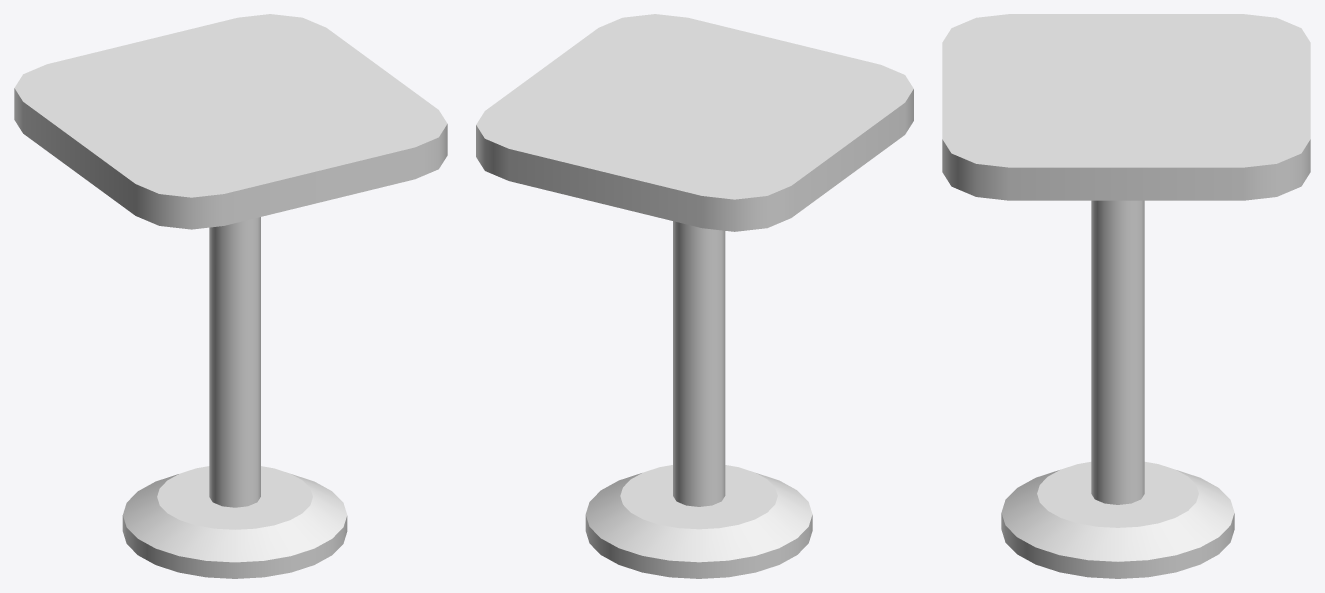
File: Furn_Stool.fbx
3 renders of one model, left to right at view 1: azimuth 30°, elevation 25°; view 2: azimuth 150°, elevation 25°; view 3: azimuth 270°, elevation 25°, orthographic. The views are drawn at different scales.
Parts seen in each view (by area): view 1: Furn_Stool; view 2: Furn_Stool; view 3: Furn_Stool.
Part boxes in pixels (x1=…): Furn_Stool: x1=14, y1=14, x2=447, y2=578; Furn_Stool: x1=476, y1=14, x2=913, y2=578; Furn_Stool: x1=942, y1=14, x2=1310, y2=578.
Size of the model in its own units: 0.4775 by 0.6359 by 0.4833.
